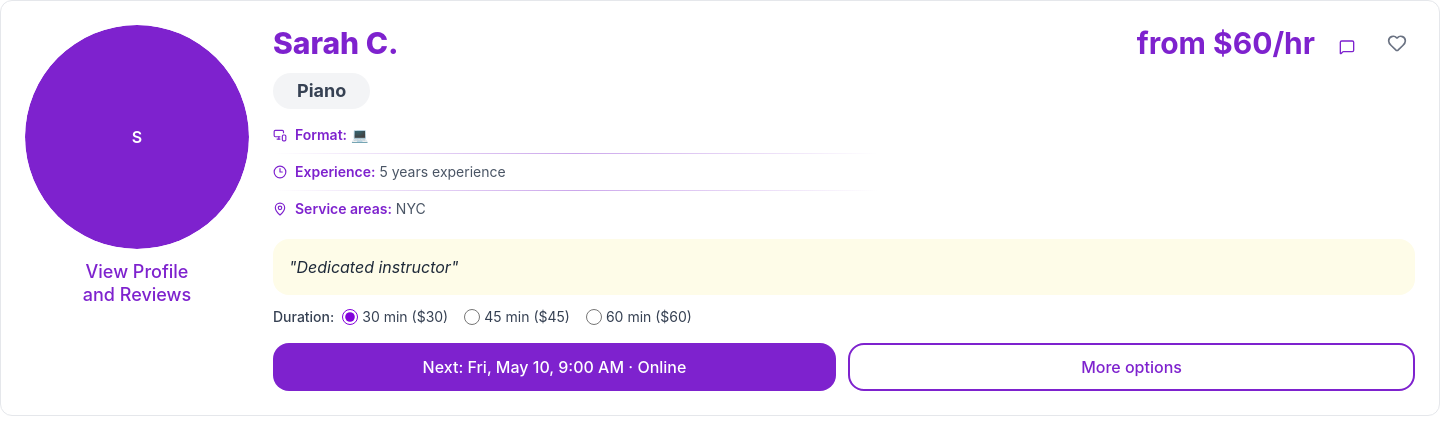
Test case: InstructorCard next available booking › updates the next available label when duration changes
The width and height of the screenshot is (1440, 433).
Expected: the button named "Next Available" shows "Next: Fri, May 10", [273, 343, 836, 391]
Expected: the button named "Next Available" shows "Online", [273, 343, 836, 391]
Click the radio button labelled "60 min ($60)".
click(594, 317)  # box [586, 309, 602, 325]
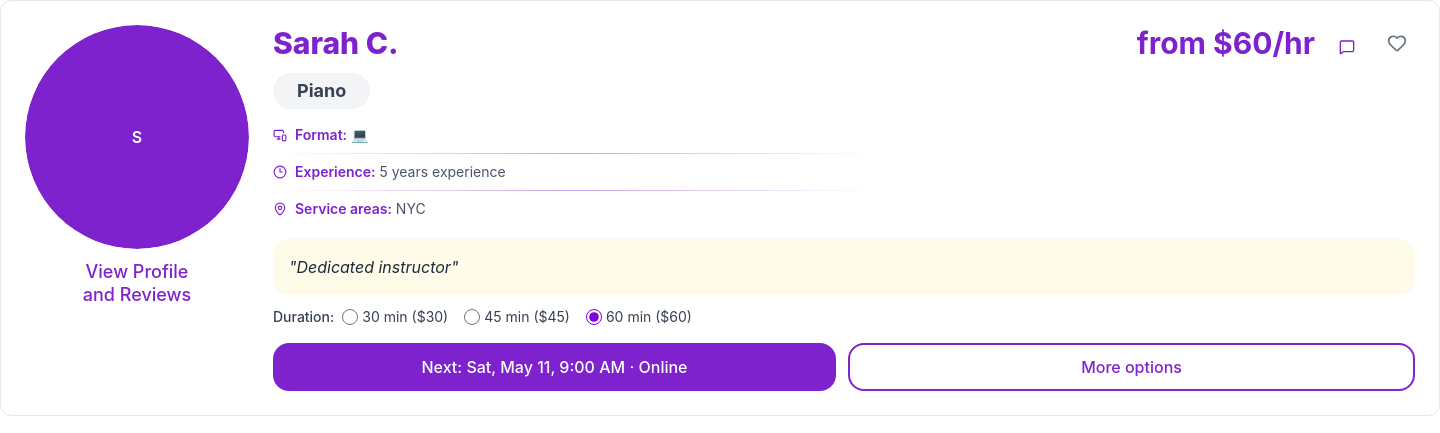
Expected: the button named "Next Available" shows "Sat, May 11", [273, 343, 836, 391]
